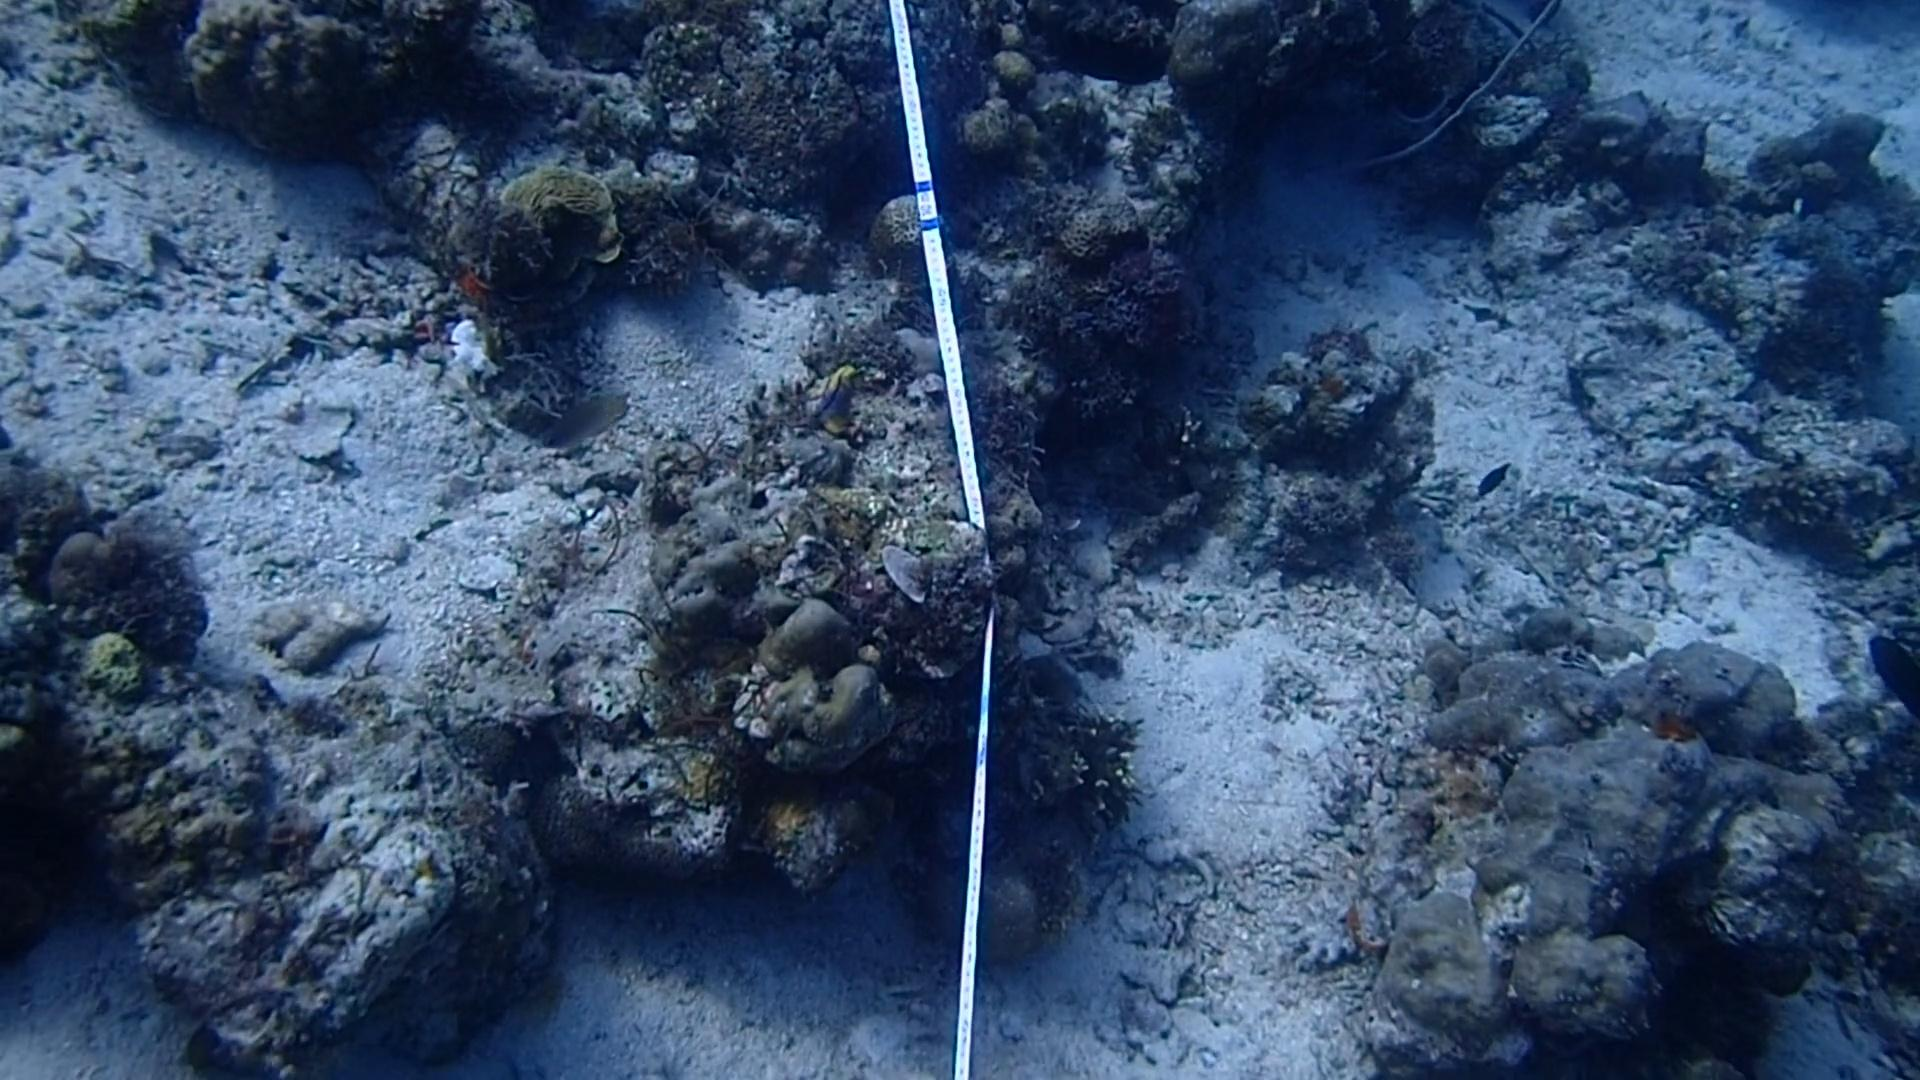Dark Fish: (1030, 18, 1162, 90), (1865, 629, 1920, 724), (1469, 454, 1514, 501)
Light Fish: (531, 380, 626, 465)
